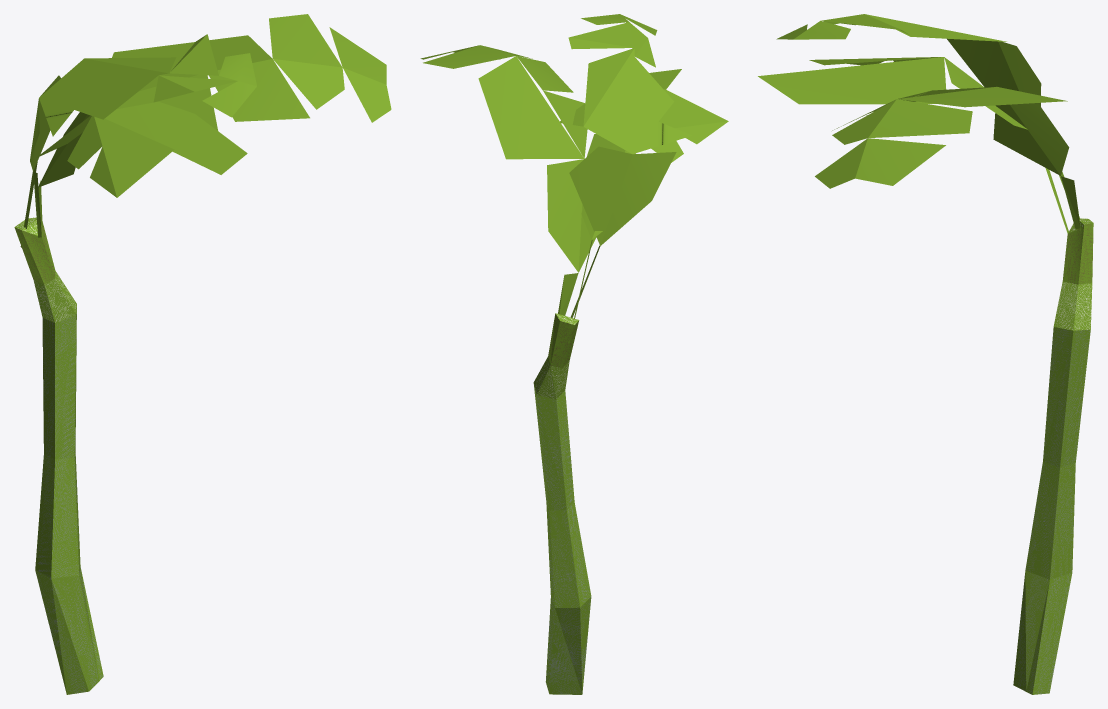
Rendered from Tree_Bamboo_09.fbx.
3 views of the same model, side by side, from view 1: azimuth 30°, elevation 25°; view 2: azimuth 150°, elevation 25°; view 3: azimuth 270°, elevation 25° (orthographic). The views are drawn at different scales.
Parts seen in each view (by area): view 1: Model; view 2: Model; view 3: Model.
Boxes of the visible parts, <box> form: Model: <box>14,14,391,694</box>; Model: <box>420,14,728,694</box>; Model: <box>758,14,1093,694</box>.
Size of the model in its own units: 194 by 394 by 174.
